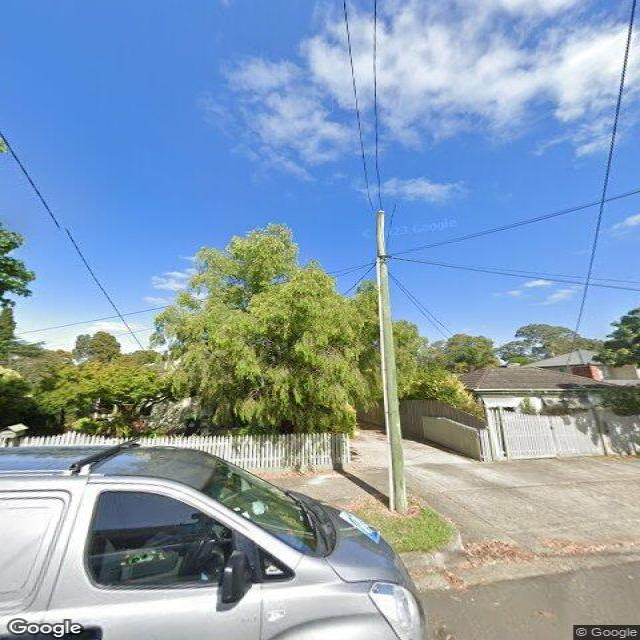timber-pole: (376, 210, 410, 515)
